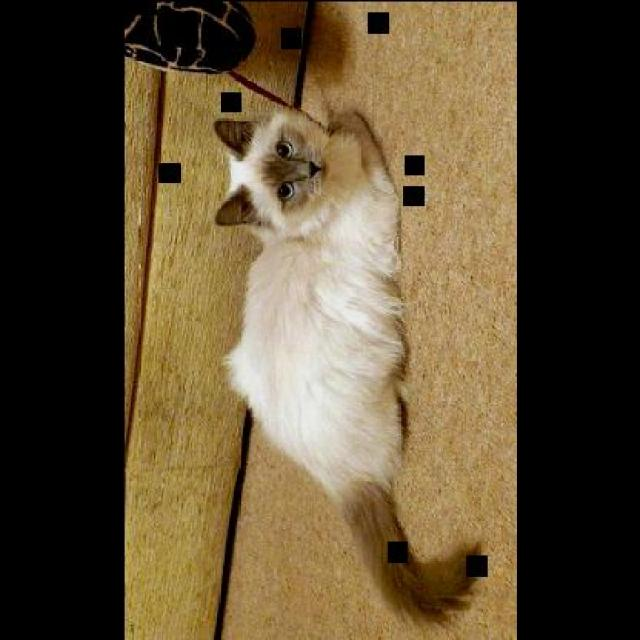unauthorized: (210, 95, 484, 616)
